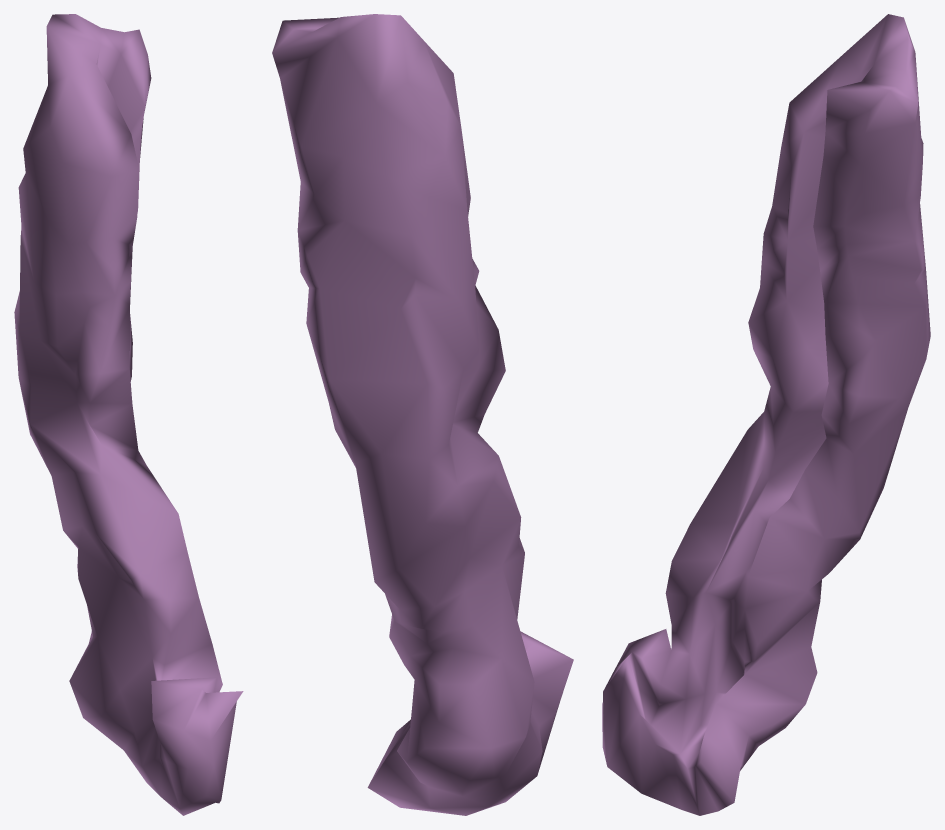
3 views of the same model, side by side, from view 1: azimuth 30°, elevation 25°; view 2: azimuth 150°, elevation 25°; view 3: azimuth 270°, elevation 25° (orthographic). The views are drawn at different scales.
Visible parts, largest first — view 1: 左侧直回; view 2: 左侧直回; view 3: 左侧直回.
Part boxes in pixels (left/top/right/bottom): 左侧直回: left=14, top=14, right=243, bottom=815; 左侧直回: left=272, top=14, right=573, bottom=815; 左侧直回: left=602, top=14, right=930, bottom=815.
Bounding box in the file's own units: 0.0177 × 0.094 × 0.0365.
